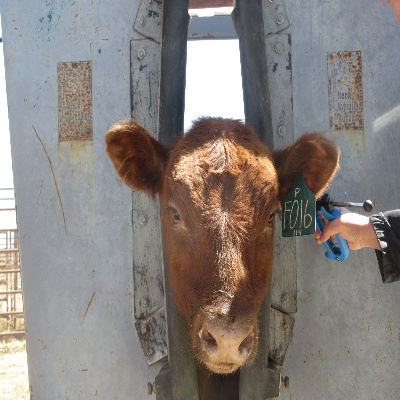fidget_spinner: (194, 312, 253, 369)
